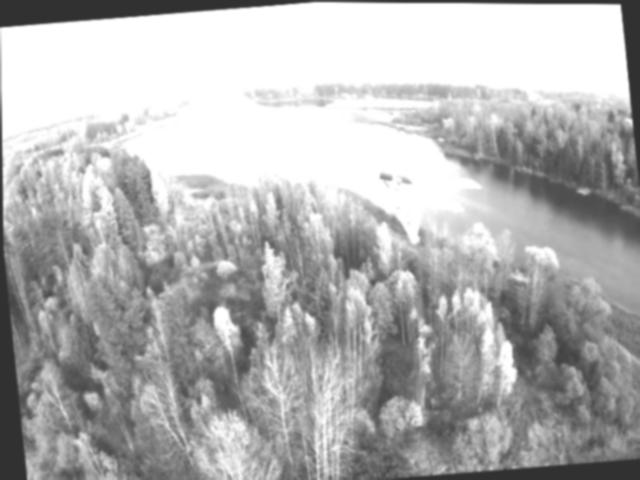hedef: (293, 124, 492, 260)
